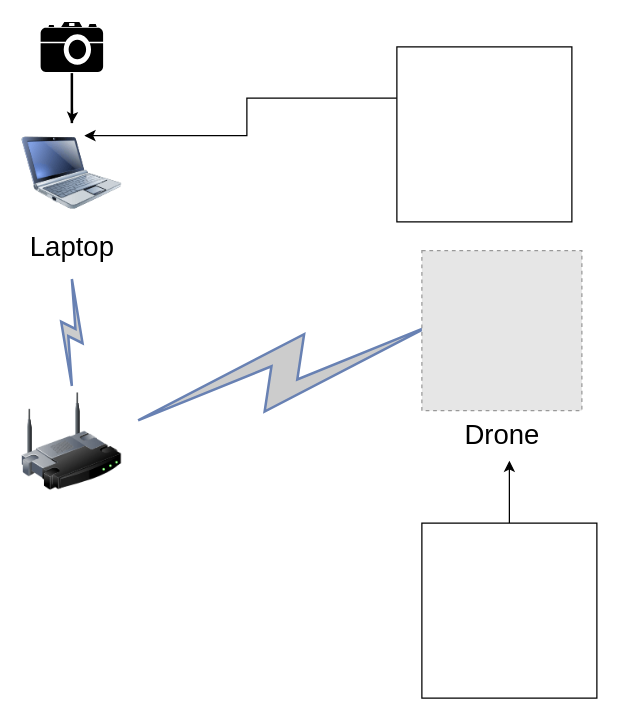
The diagram is 619 pixels wide and 720 high, and some of its shapes have lost their labels. Grey dashed boxes stand in for pictures. The shapes that lost their labels are listed below. From the top down, each one's centre as x and y in pixels, then its label:
At [484,134]: "Human Pose estimation module is running in the browser".
At [509,610]: "Main code of flying is running".
